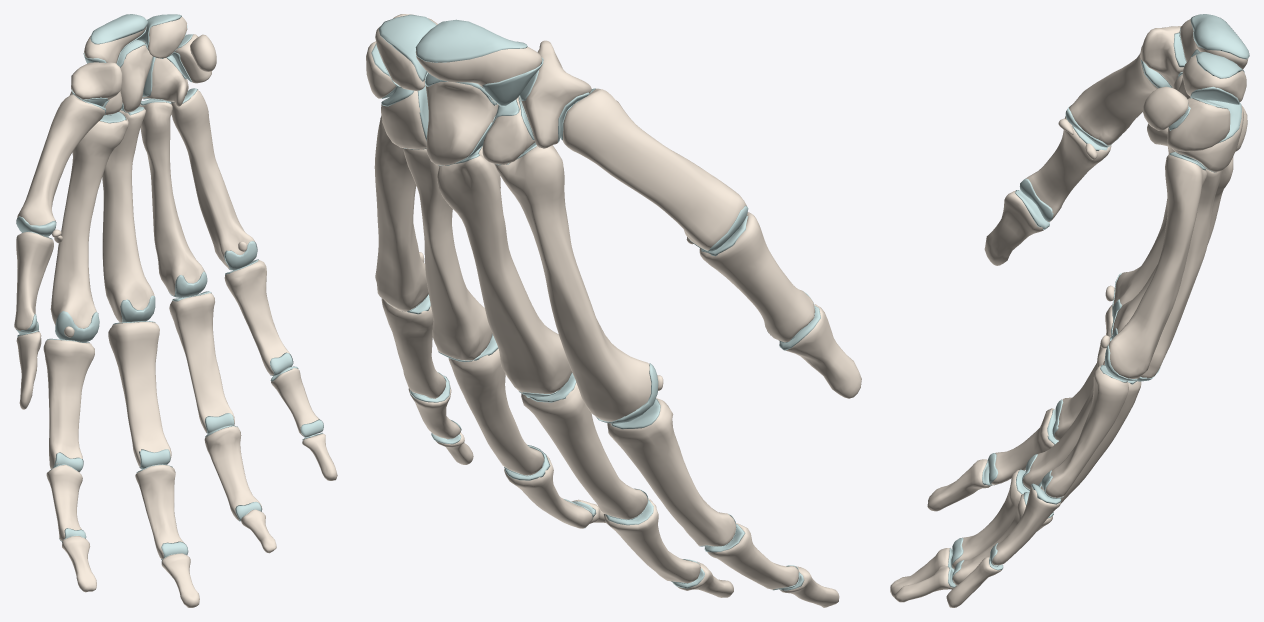
Rendered from open3dmodel-hand-and-wrist-bones-and-cartilages.glb.
The picture shows the model from 3 angles, left to right: view 1: azimuth 30°, elevation 25°; view 2: azimuth 150°, elevation 25°; view 3: azimuth 270°, elevation 25°; orthographic projection. The views are drawn at different scales.
Visible parts, largest first — view 1: 2nd metacarpal bone.r, 3rd metacarpal bone.r, 4th metacarpal bone.r, 5th metacarpal bone.r, Proximal phalanx of 3rd finger.r, Proximal phalanx of 2d finger.r, 1st metacarpal bone.r, Proximal phalanx of 4th finger.r, Art carts of metacarpal bones, Proximal phalanx of 5th finger.r, Proximal phalanx of 1st finger.r, Middle phalanx of 3rd finger.r (+19 smaller); view 2: 2nd metacarpal bone.r, 3rd metacarpal bone.r, 1st metacarpal bone.r, 4th metacarpal bone.r, 5th metacarpal bone.r, Proximal phalanx of 2d finger.r, Proximal phalanx of 3rd finger.r, Proximal phalanx of 1st finger.r, Proximal phalanx of 4th finger.r, Capitate.r, Art cart of scaphoid bone, Trapezium.r (+19 smaller); view 3: 5th metacarpal bone.r, 1st metacarpal bone.r, Proximal phalanx of 5th finger.r, 4th metacarpal bone.r, Proximal phalanx of 1st finger.r, Triquetrum.r, Distal phalanx of 1st finger.r, Proximal phalanx of 3rd finger.r, Middle phalanx of 5th finger.r, Art cart of scaphoid bone, Middle phalanx of 3rd finger.r, Trapezium.r (+21 smaller).
Boxes of the visible parts, left/top/right/bottom form: 2nd metacarpal bone.r: left=50, top=115, right=128, bottom=328; 3rd metacarpal bone.r: left=102, top=108, right=154, bottom=322; 4th metacarpal bone.r: left=139, top=102, right=205, bottom=295; 5th metacarpal bone.r: left=171, top=90, right=254, bottom=268; Proximal phalanx of 3rd finger.r: left=108, top=322, right=171, bottom=467; Proximal phalanx of 2d finger.r: left=43, top=339, right=94, bottom=471; 1st metacarpal bone.r: left=17, top=94, right=105, bottom=225; Proximal phalanx of 4th finger.r: left=169, top=293, right=234, bottom=432; Art carts of metacarpal bones: left=16, top=88, right=257, bottom=342; Proximal phalanx of 5th finger.r: left=224, top=260, right=289, bottom=375; Proximal phalanx of 1st finger.r: left=14, top=232, right=53, bottom=330; Middle phalanx of 3rd finger.r: left=135, top=465, right=184, bottom=559; 2nd metacarpal bone.r: left=494, top=145, right=651, bottom=421; 3rd metacarpal bone.r: left=437, top=146, right=571, bottom=393; 1st metacarpal bone.r: left=562, top=88, right=746, bottom=250; 4th metacarpal bone.r: left=403, top=148, right=492, bottom=360; 5th metacarpal bone.r: left=374, top=115, right=428, bottom=311; Proximal phalanx of 2d finger.r: left=607, top=398, right=735, bottom=546; Proximal phalanx of 3rd finger.r: left=521, top=382, right=647, bottom=519; Proximal phalanx of 1st finger.r: left=699, top=212, right=814, bottom=342; Proximal phalanx of 4th finger.r: left=448, top=348, right=544, bottom=475; Capitate.r: left=425, top=82, right=498, bottom=165; Art cart of scaphoid bone: left=415, top=19, right=543, bottom=106; Trapezium.r: left=519, top=40, right=591, bottom=148; 5th metacarpal bone.r: left=1108, top=154, right=1206, bottom=378; 1st metacarpal bone.r: left=1069, top=46, right=1157, bottom=145; Proximal phalanx of 5th finger.r: left=1045, top=365, right=1128, bottom=497; 4th metacarpal bone.r: left=1140, top=168, right=1223, bottom=378; Proximal phalanx of 1st finger.r: left=1026, top=116, right=1111, bottom=221; Triquetrum.r: left=1167, top=98, right=1230, bottom=151; Distal phalanx of 1st finger.r: left=984, top=190, right=1043, bottom=265; Proximal phalanx of 3rd finger.r: left=1022, top=335, right=1111, bottom=489; Middle phalanx of 5th finger.r: left=992, top=486, right=1060, bottom=565; Art cart of scaphoid bone: left=1179, top=14, right=1249, bottom=64; Middle phalanx of 3rd finger.r: left=952, top=470, right=1021, bottom=568; Trapezium.r: left=1140, top=26, right=1183, bottom=88.
Size of the model in its own units: 0.1081 by 0.1641 by 0.088.
